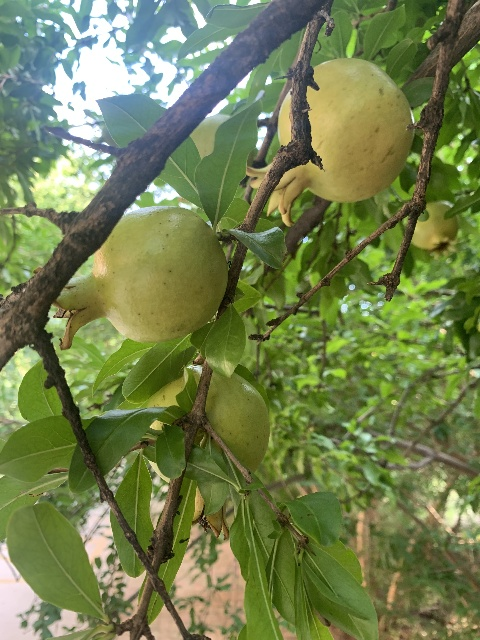mid-growth: (245, 57, 414, 226), (53, 204, 229, 350), (144, 363, 270, 540), (410, 202, 458, 259)
